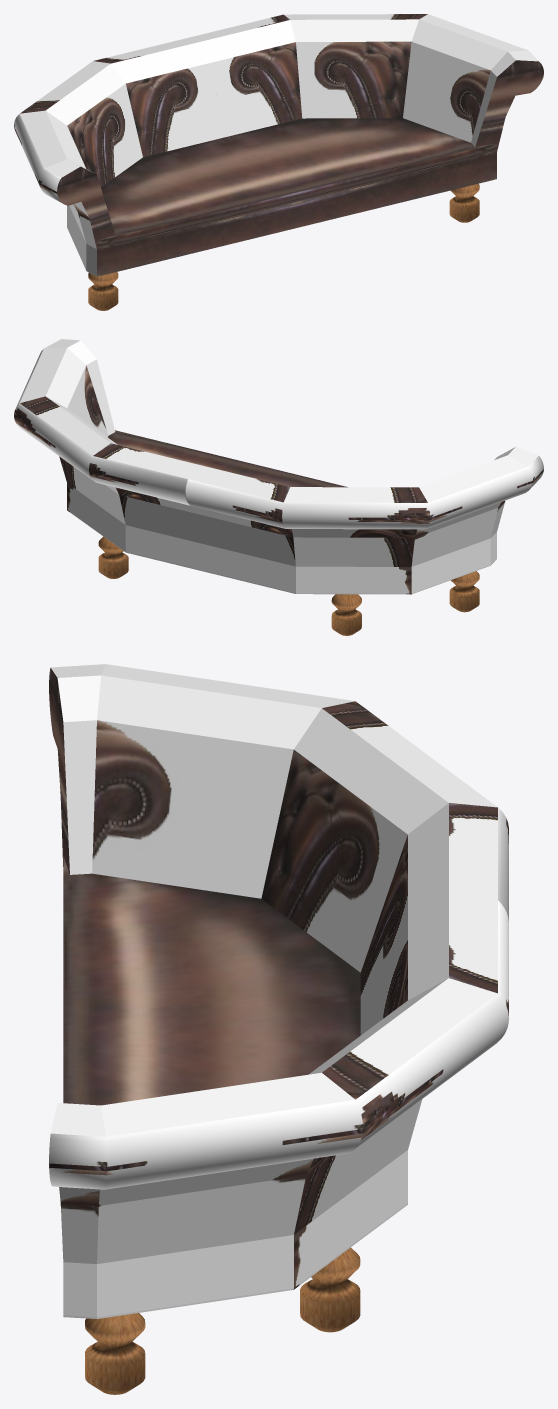
The model's file is sofa-chesterfield.glb.
The picture shows the model from 3 angles, top to bottom: view 1: azimuth 30°, elevation 25°; view 2: azimuth 150°, elevation 25°; view 3: azimuth 270°, elevation 25°; orthographic projection. The views are drawn at different scales.
Parts seen in each view (by area): view 1: C-Brown Chesterfield Sofa; view 2: C-Brown Chesterfield Sofa; view 3: C-Brown Chesterfield Sofa.
Boxes of the visible parts, x1,y1,x2,y2 form: C-Brown Chesterfield Sofa: [14, 14, 543, 310]; C-Brown Chesterfield Sofa: [14, 339, 543, 635]; C-Brown Chesterfield Sofa: [49, 664, 508, 1394].
Bounding box in the file's own units: 1.89 × 0.5874 × 0.761.
Materials: 2 (2 with a texture image).
